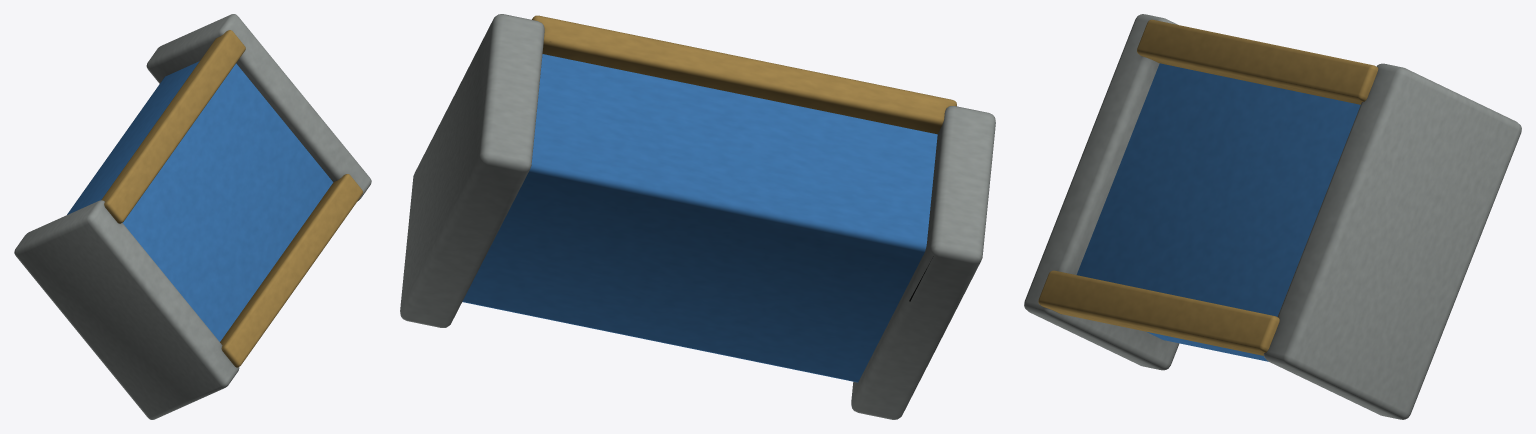
3 renders of one model, left to right at view 1: azimuth 30°, elevation 25°; view 2: azimuth 150°, elevation 25°; view 3: azimuth 270°, elevation 25°, orthographic. The views are drawn at different scales.
Visible parts, largest first — view 1: Compressed mineral slab; view 2: Compressed mineral slab; view 3: Compressed mineral slab.
Part boxes in pixels (x1=…): Compressed mineral slab: x1=14, y1=14, x2=371, y2=419; Compressed mineral slab: x1=400, y1=14, x2=995, y2=419; Compressed mineral slab: x1=1024, y1=14, x2=1521, y2=419.
Bounding box in the file's own units: 1.41 × 1.08 × 1.17.
1 material, 1 textured.
